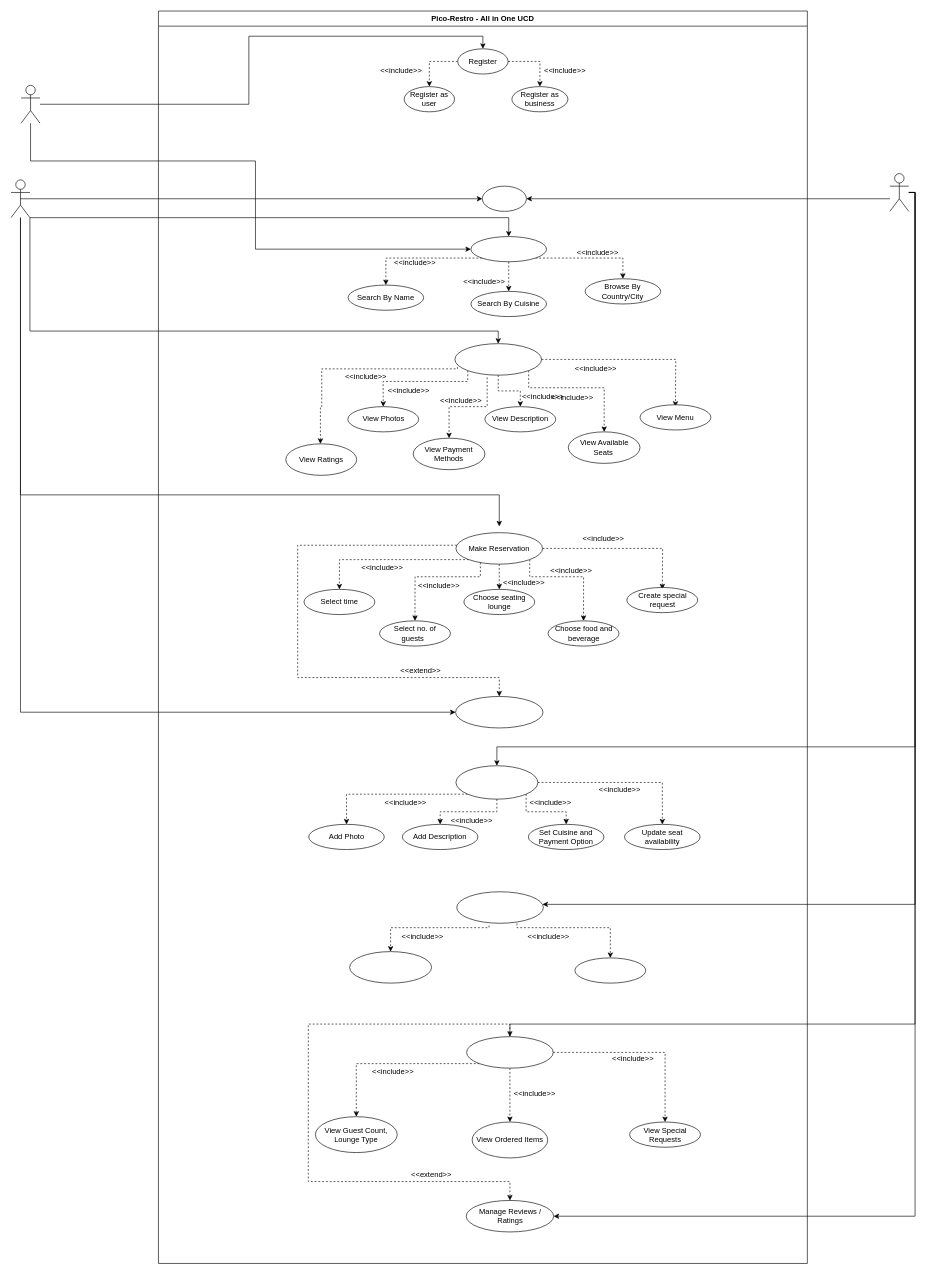
The diagram is 945 pixels wide and 1274 high, and some of its shapes have lost their labels. The box of each missing label's shape, as (x1, y1, x2, y2) in pixels:
Add/Update Food & Beverage Items: (349, 951, 432, 983)
Browser Restaurant Profile: (454, 343, 542, 375)
Login: (482, 186, 526, 211)
Manage menu: (456, 891, 543, 923)
Manage Restaurant Profile: (455, 765, 538, 799)
New User: (20, 85, 40, 123)
Registered Business: (889, 173, 909, 211)
Search Restaurant: (470, 236, 547, 262)
Set Prices: (574, 957, 646, 983)
Submit Review: (455, 696, 543, 728)
User: (10, 179, 30, 218)
View Reservations: (466, 1036, 553, 1068)
